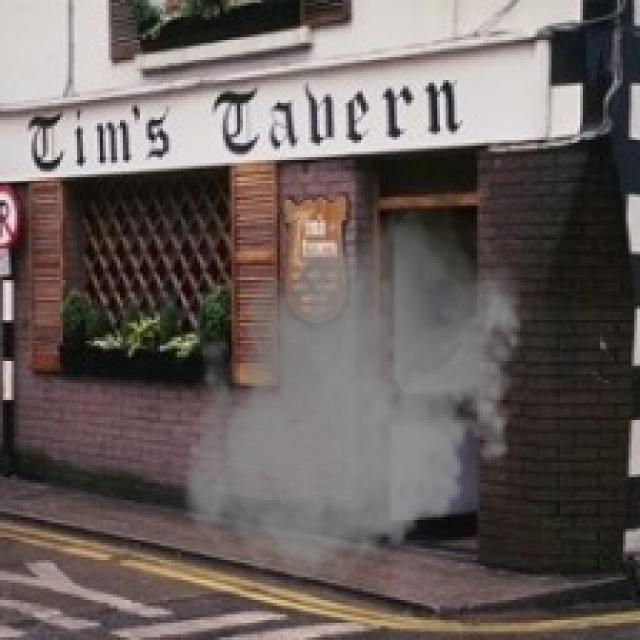Smoke: (177, 194, 534, 592)
